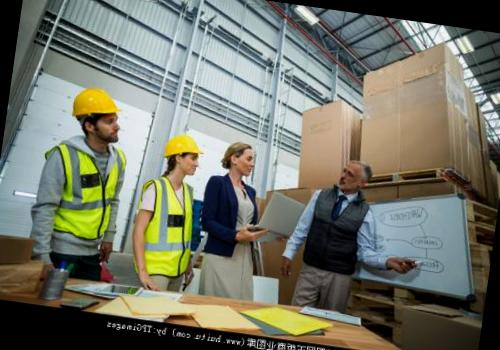no_helmet: (330, 154, 378, 198), (220, 136, 258, 182)
